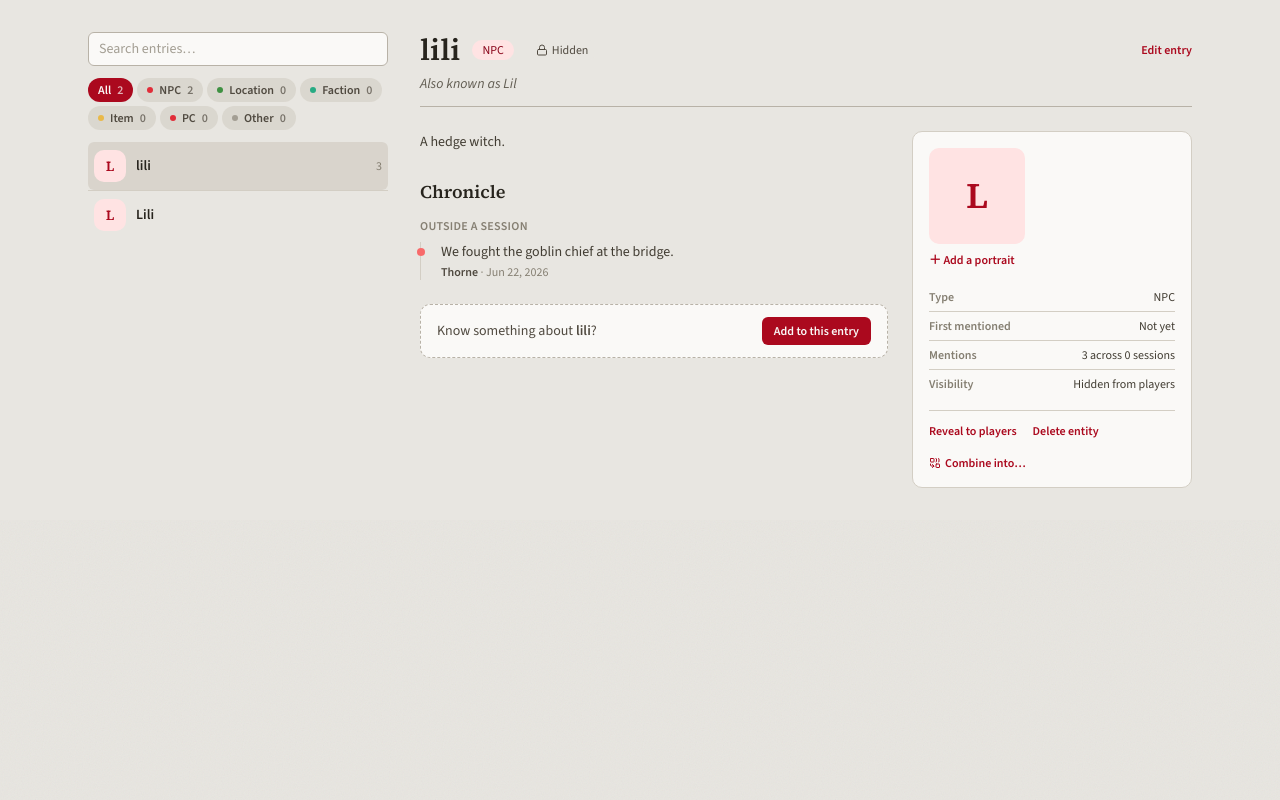
Test: EntityDetailPage (#248) › Combine into… (#1943) › shows a searchable survivor picker that excludes the duplicate
This screenshot has width=1280, height=800.
Click the button "Combine into…" at (977, 463), box [929, 455, 1026, 471]
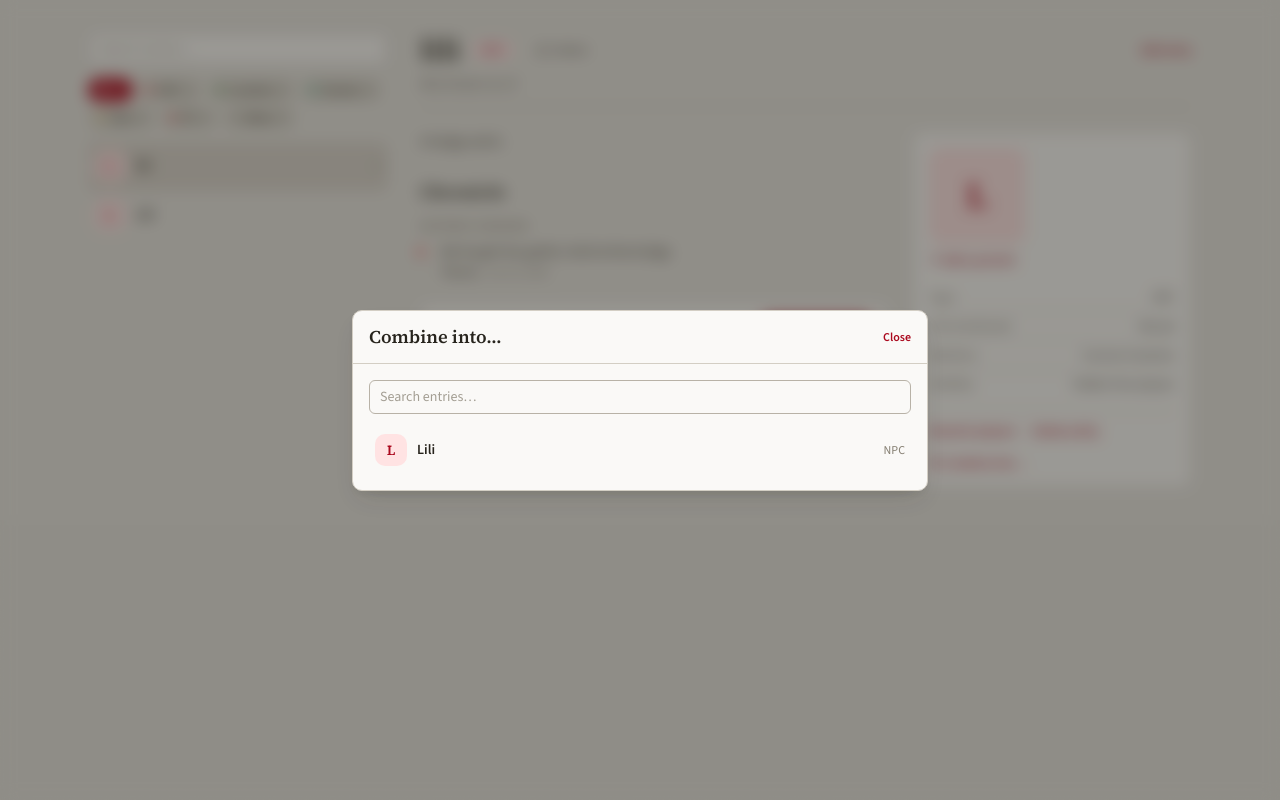
Now the heading "Combine into…" is shown, box [369, 322, 502, 350]
Now the button "L Lili NPC" is shown, box [369, 426, 911, 474]
Type "xyz-no-match" into the search field at (640, 396), box [369, 380, 911, 414]
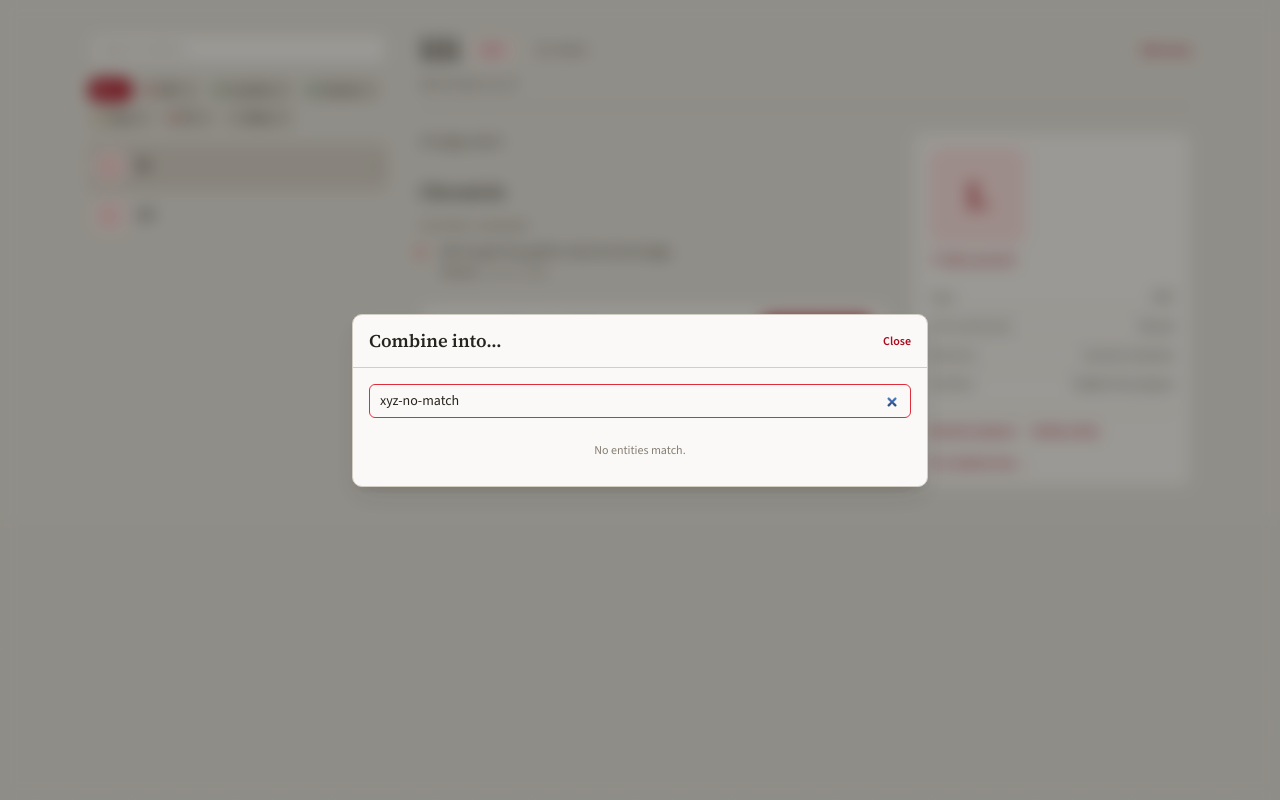
Now the list item "No entities match." is shown, box [594, 442, 686, 458]
